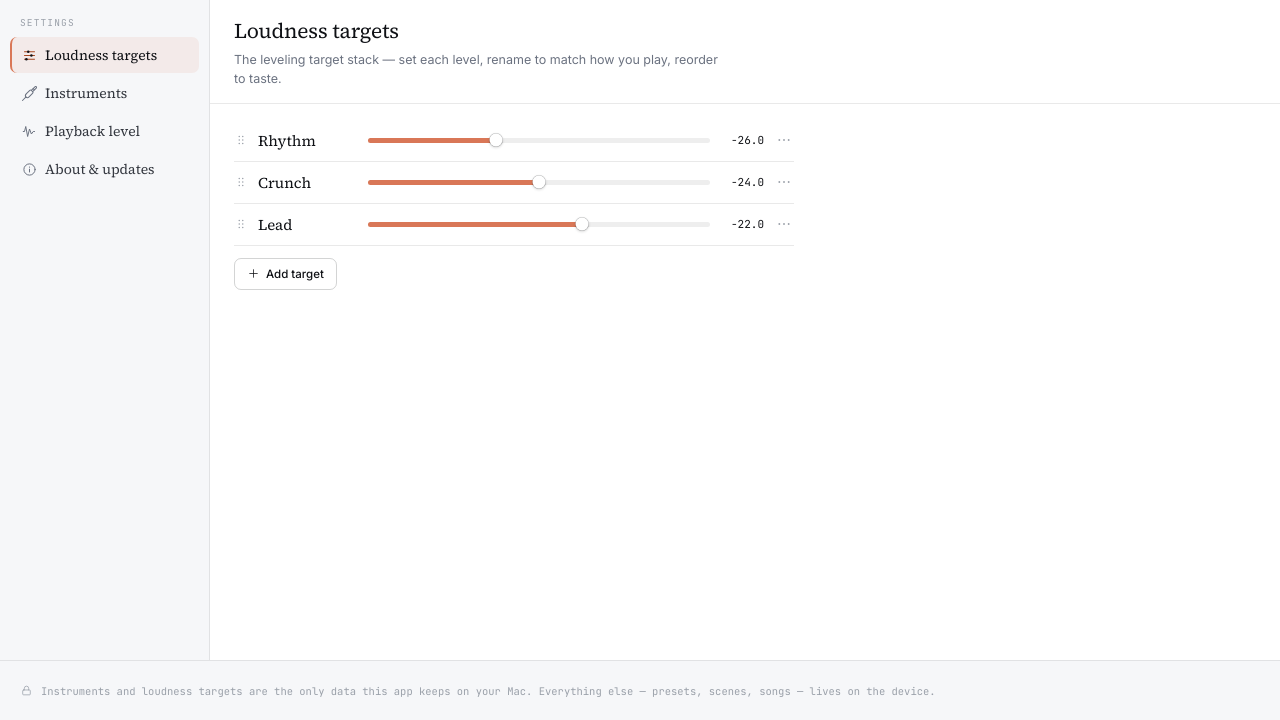
Scenario: SettingsView — playback level › reflects the stored level + its compensation caption
Expected: the text "Rhythm" is shown, [258,130,316,150]
Click the tab "Playback level": (81, 131) [22,121,140,141]
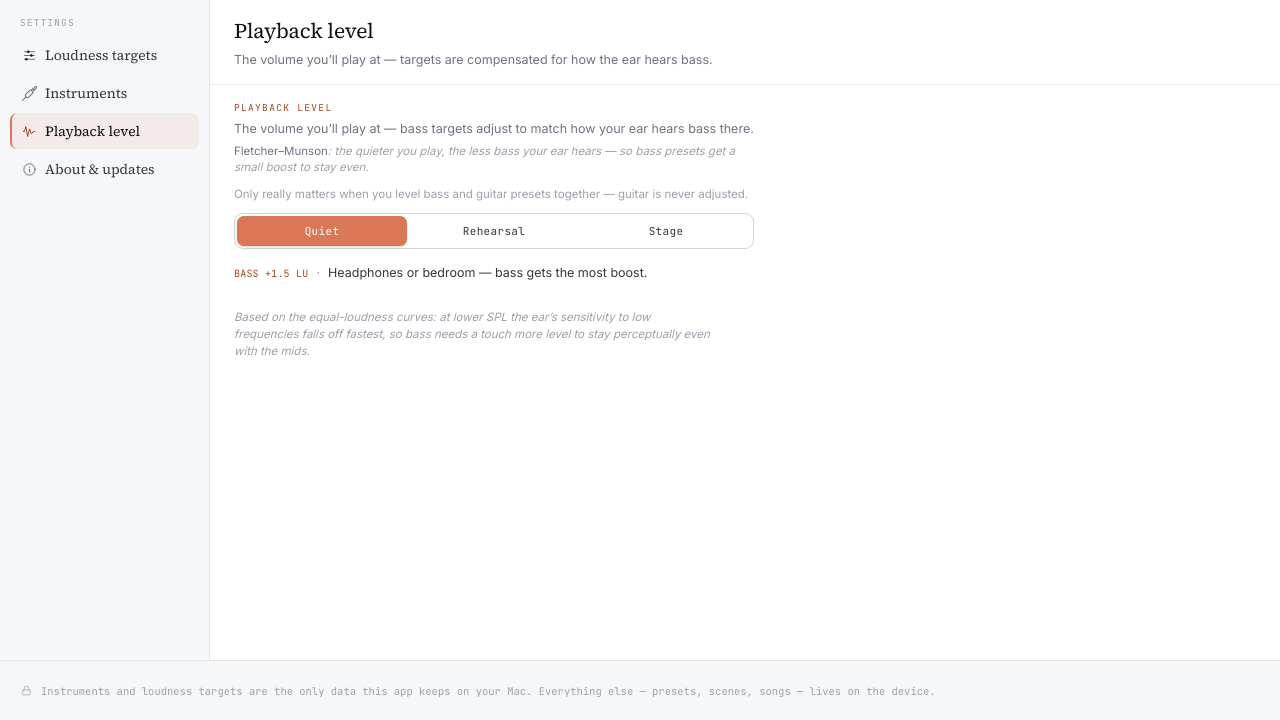
Expected: the text "bass +1.5 LU" is shown, [234,266,308,280]
